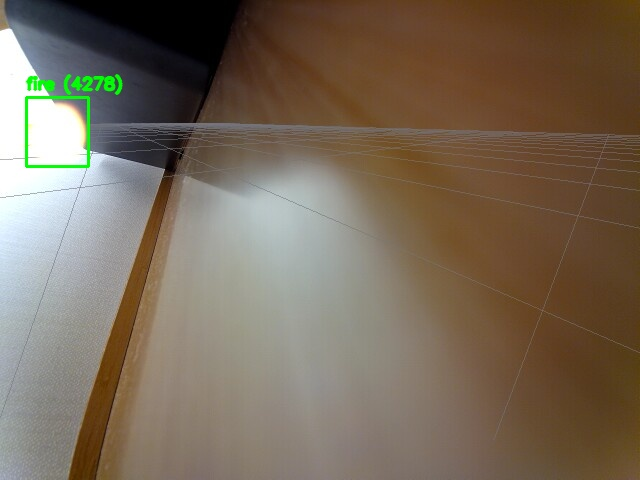fire: (26, 97, 88, 166)
